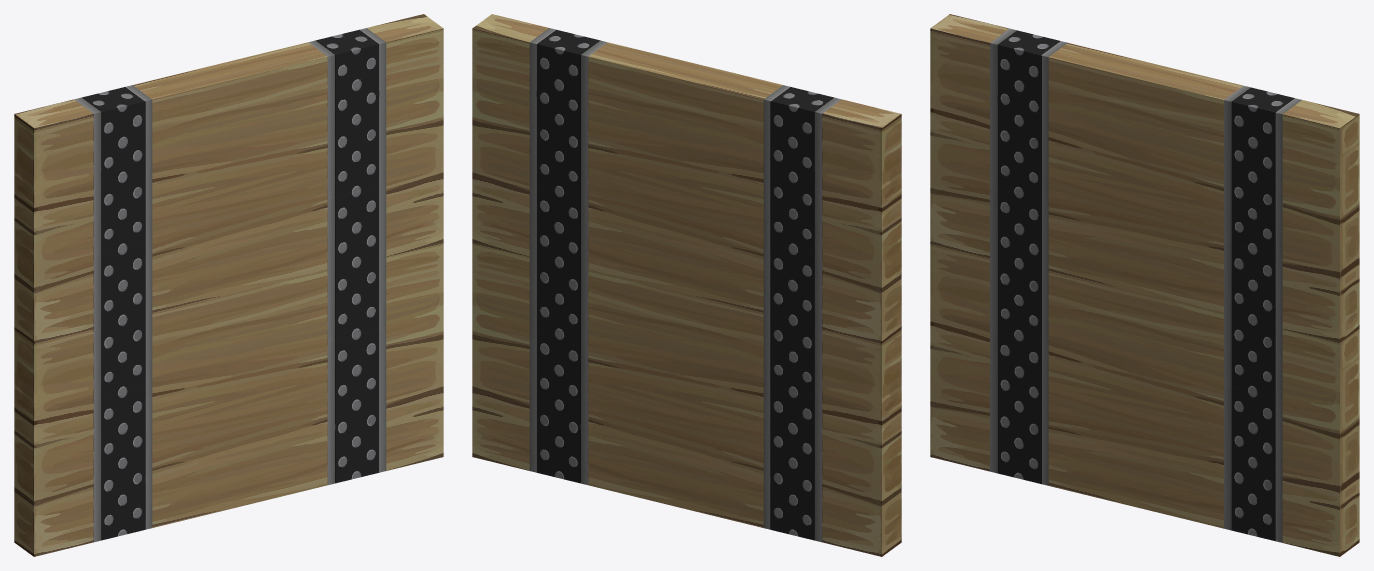
The model's file is platform.dae.
3 views of the same model, side by side, from view 1: azimuth 30°, elevation 25°; view 2: azimuth 150°, elevation 25°; view 3: azimuth 330°, elevation 25° (orthographic).
Parts seen in each view (by area): view 1: Cube_002, Cube_003; view 2: Cube_002, Cube_003; view 3: Cube_002, Cube_003.
Boxes of the visible parts, x1=… form: Cube_002: x1=34, y1=28, x2=443, y2=556; Cube_003: x1=14, y1=14, x2=443, y2=556; Cube_002: x1=472, y1=28, x2=881, y2=556; Cube_003: x1=472, y1=14, x2=901, y2=556; Cube_002: x1=930, y1=28, x2=1339, y2=556; Cube_003: x1=930, y1=14, x2=1359, y2=556.
Size of the model in its own units: 3 by 0.25 by 3.
Materials: 1 (1 with a texture image).
